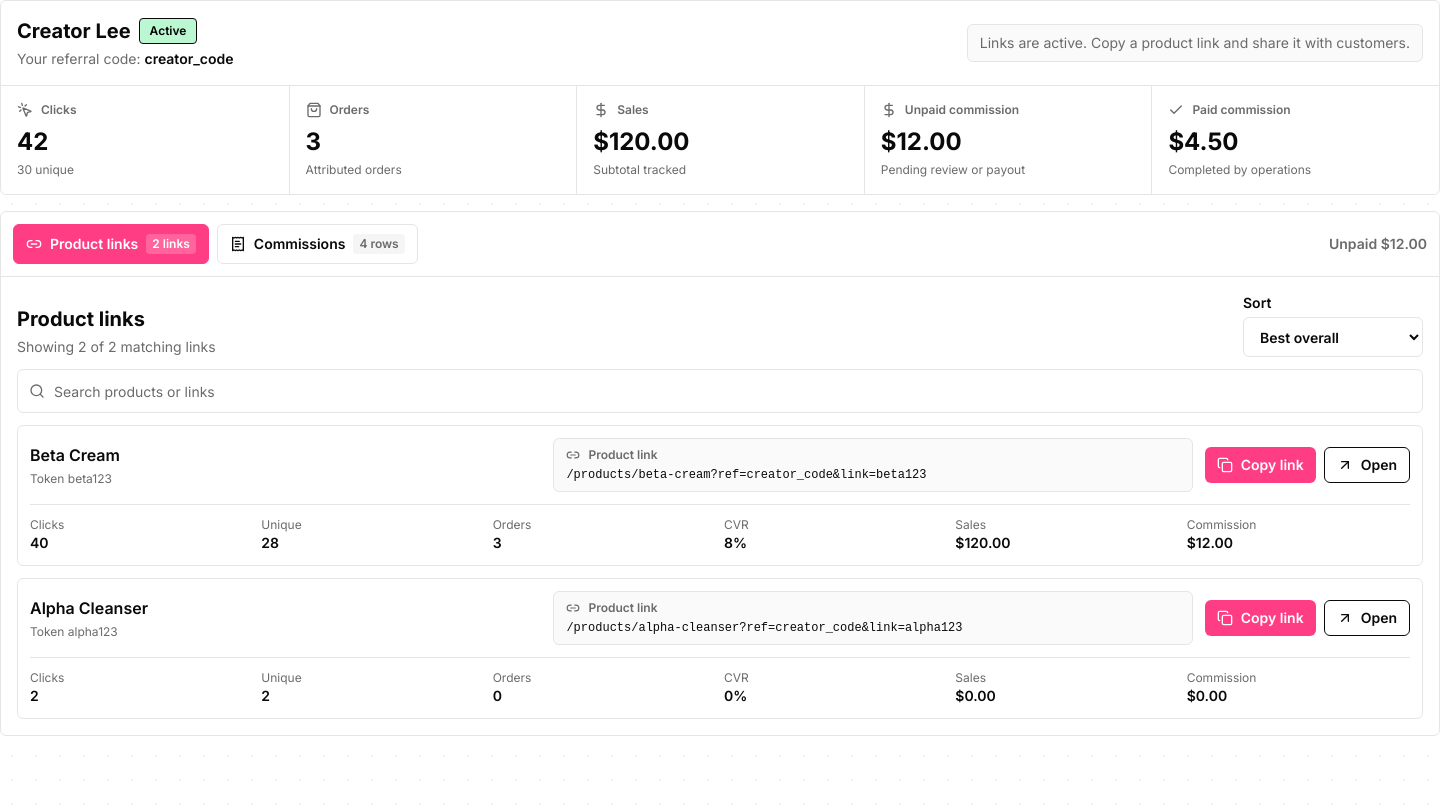
Test: PromoterPortalClient › shows a copy failure state instead of crashing
This screenshot has width=1440, height=810.
Click the button "Copy link" in the row of "Beta Cream". click: (1260, 465)
box: [1205,447,1316,483]
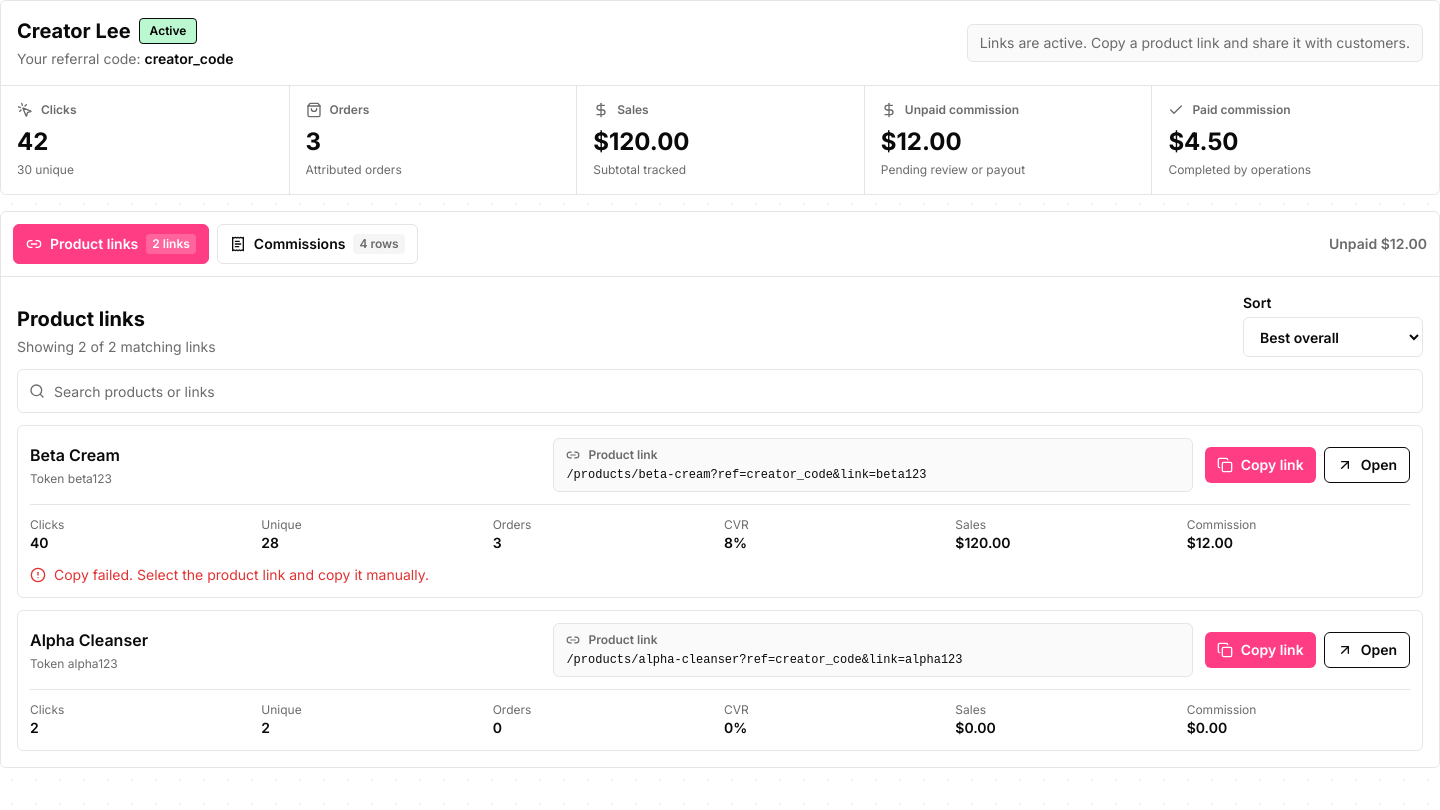
Expected: the text "Copy failed. Select the product link and copy it manually." is shown, [30,566,429,583]
